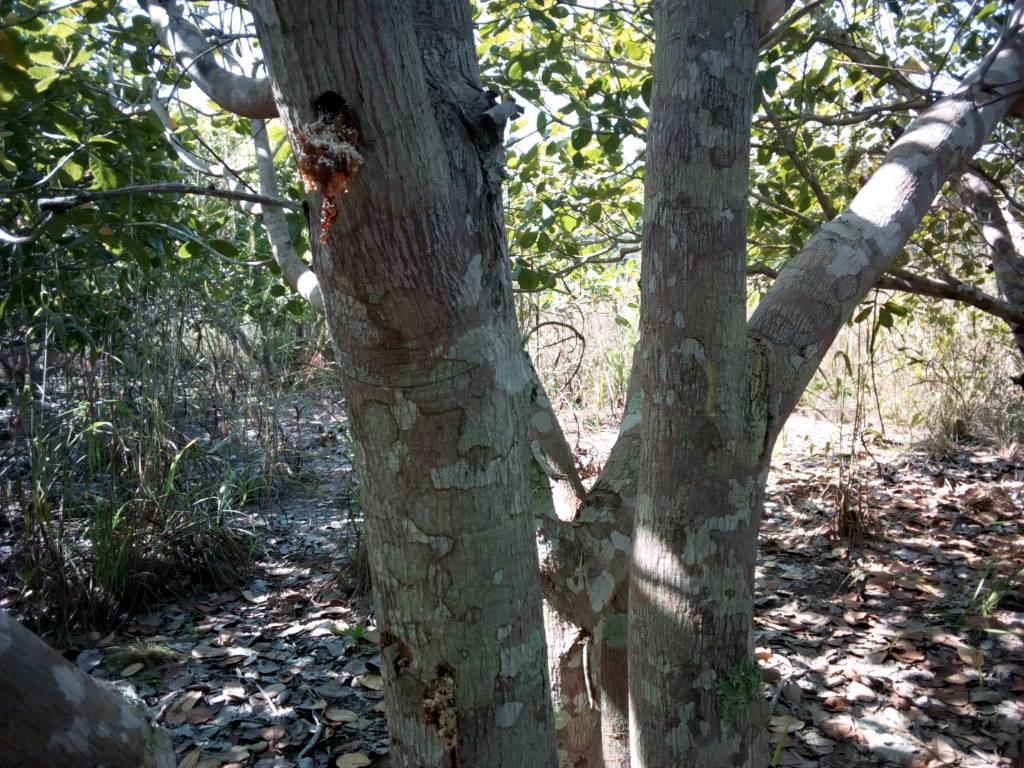Apate terebrans: (254, 84, 413, 278)
